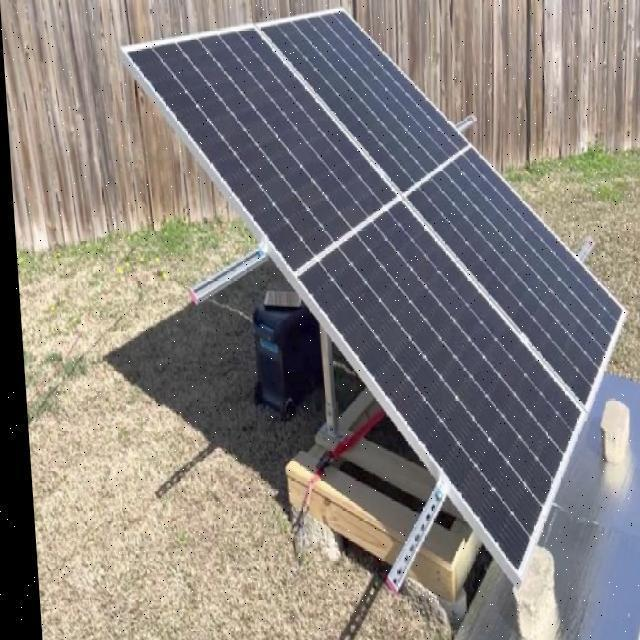Normal Solar Panel: (123, 14, 636, 578)
